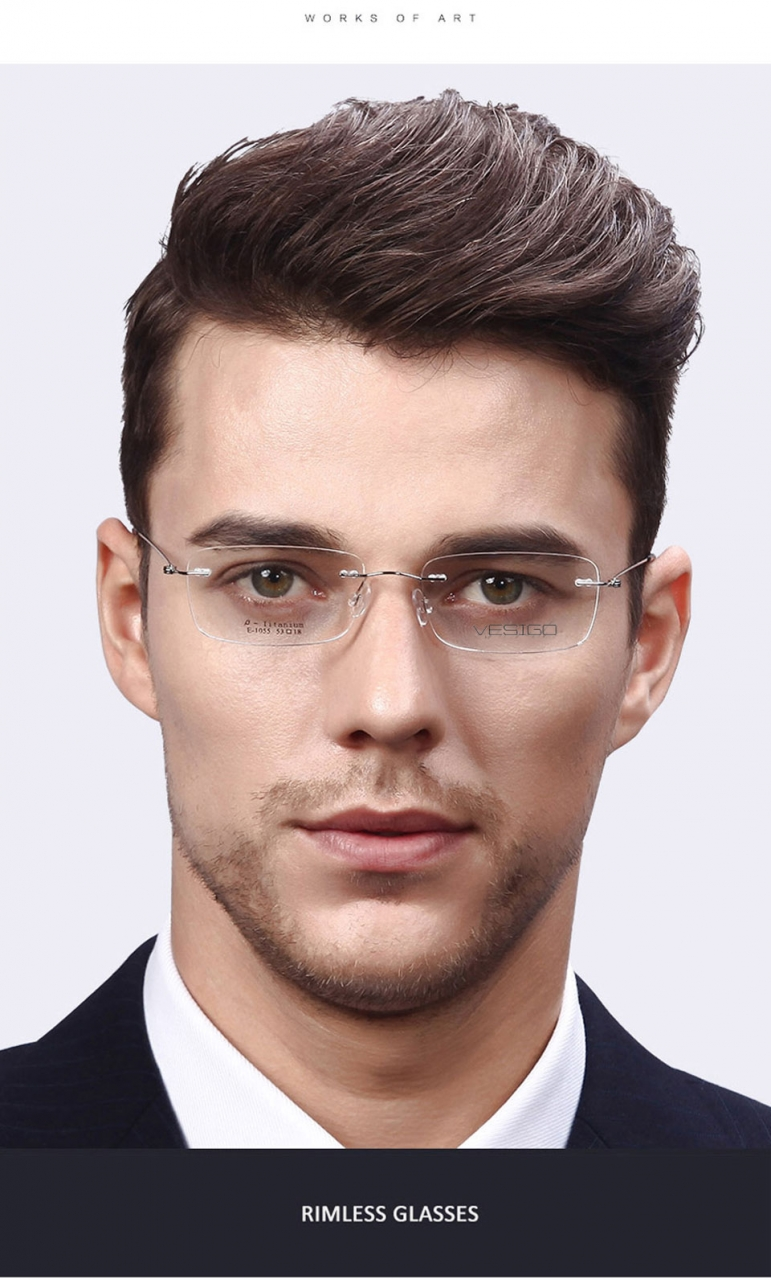llen: (420, 551, 601, 655)
rlen: (185, 544, 365, 645)
